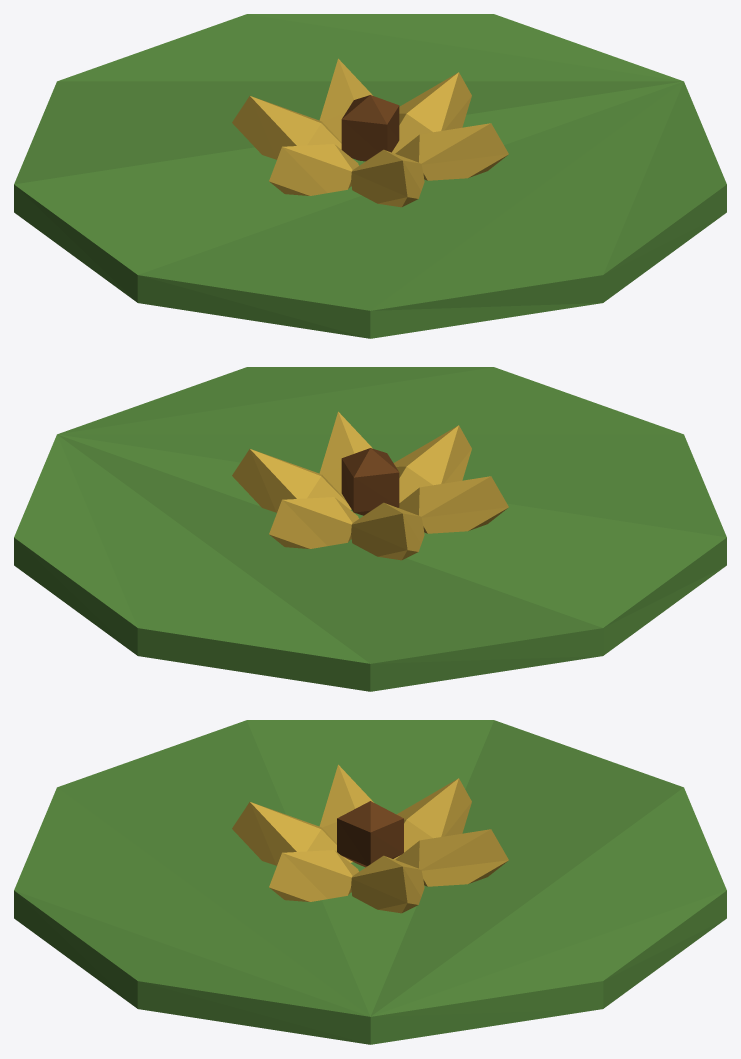
The model's file is lily_pad_3.glb.
The picture shows the model from 3 angles, top to bottom: view 1: azimuth 30°, elevation 25°; view 2: azimuth 150°, elevation 25°; view 3: azimuth 270°, elevation 25°; orthographic projection.
Visible parts, largest first — view 1: lily_pad_3; view 2: lily_pad_3; view 3: lily_pad_3.
Boxes of the visible parts, x1,y1,x2,y2 form: lily_pad_3: (14,14,726,338); lily_pad_3: (14,367,726,691); lily_pad_3: (14,720,726,1044).
Bounding box in the file's own units: 0.182 × 0.0319 × 0.1848.
